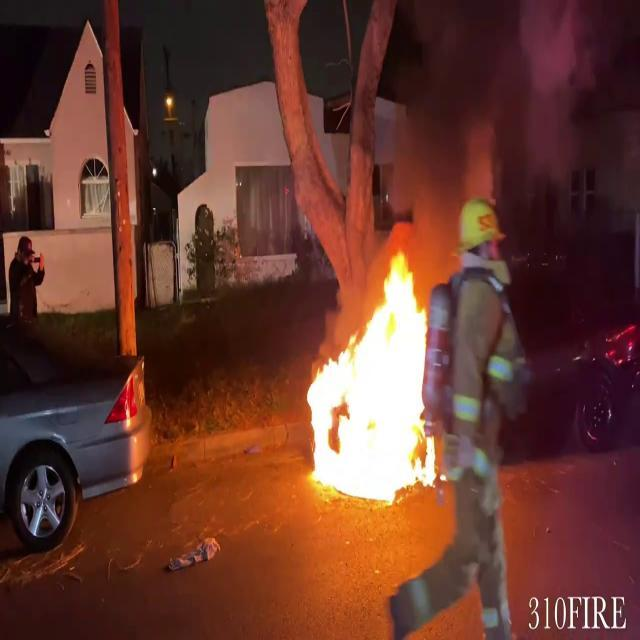Fire: (298, 249, 446, 512)
Smoke: (388, 0, 618, 259)
